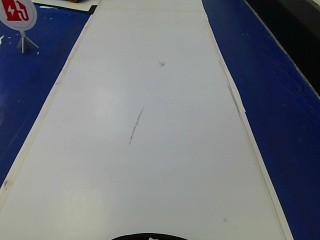battery: (0, 1, 34, 32)
